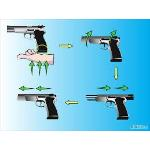Pistol: (5, 24, 51, 54), (81, 34, 123, 64), (87, 94, 134, 120), (17, 93, 59, 121)
